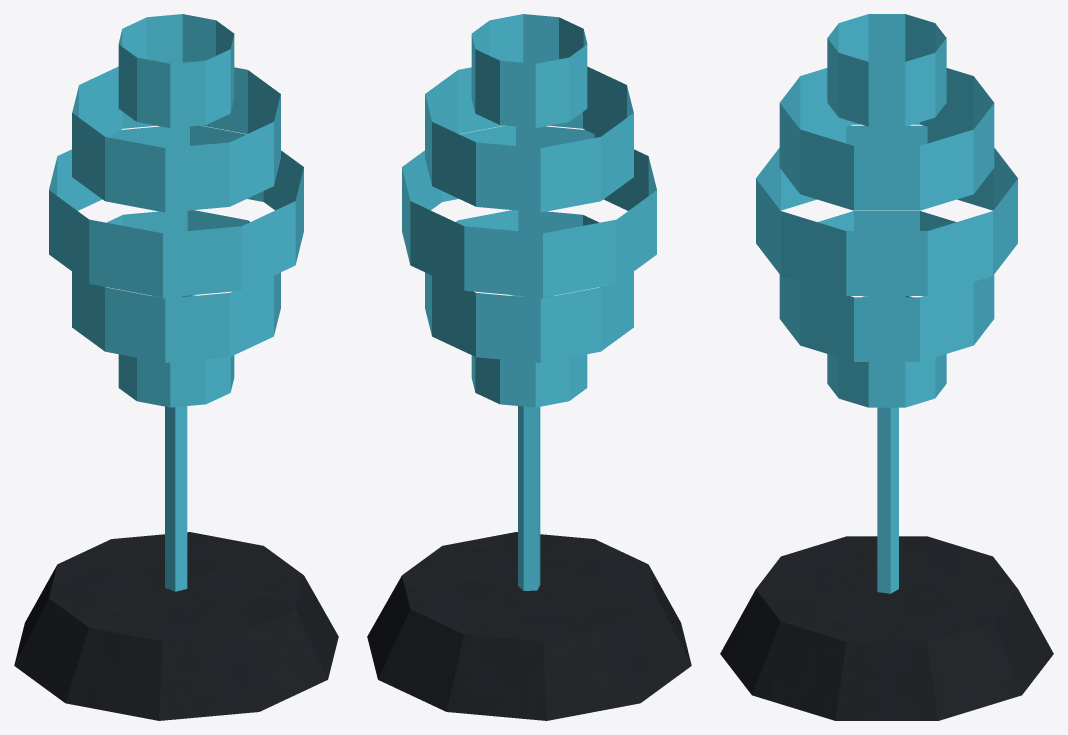
Rendered from hologram_globe_01.glb.
3 renders of one model, left to right at view 1: azimuth 30°, elevation 25°; view 2: azimuth 150°, elevation 25°; view 3: azimuth 270°, elevation 25°, orthographic.
Visible parts, largest first — view 1: hologram_globe_01; view 2: hologram_globe_01; view 3: hologram_globe_01.
Boxes of the visible parts, x1=… form: hologram_globe_01: x1=14, y1=14, x2=338, y2=720; hologram_globe_01: x1=367, y1=14, x2=691, y2=720; hologram_globe_01: x1=720, y1=14, x2=1053, y2=720.
Size of the model in its own units: 0.5326 by 1.14 by 0.56.
Materials: 2 (1 with a texture image).
